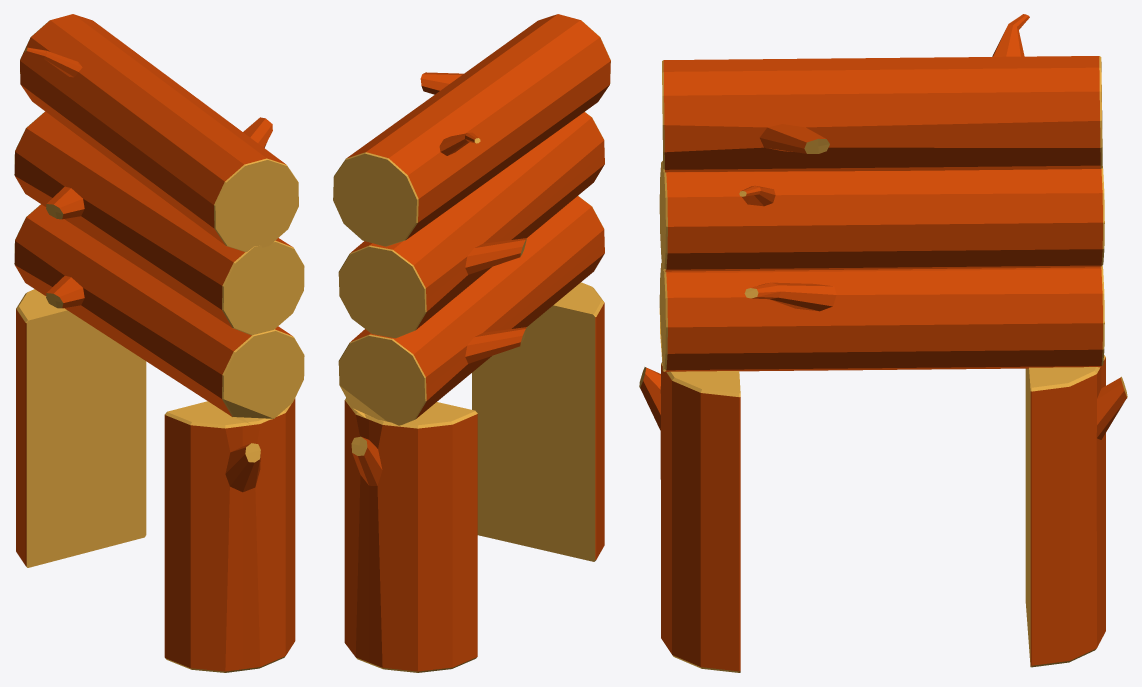
File: slide.fbx
The picture shows the model from 3 angles, left to right: view 1: azimuth 30°, elevation 25°; view 2: azimuth 150°, elevation 25°; view 3: azimuth 270°, elevation 25°; orthographic projection. The views are drawn at different scales.
Parts seen in each view (by area): view 1: slide; view 2: slide; view 3: slide.
Boxes of the visible parts, x1,y1,x2,y2 form: slide: (14,14,304,672); slide: (333,14,610,672); slide: (639,14,1127,672).
Bounding box in the file's own units: 387 × 167 × 513.
